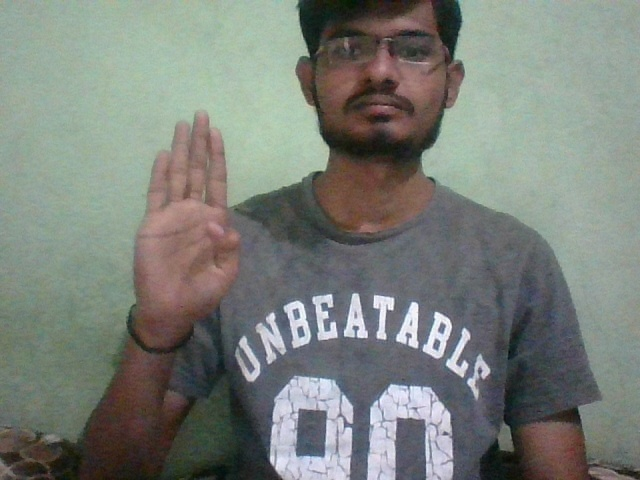Hello: (111, 99, 255, 336)
